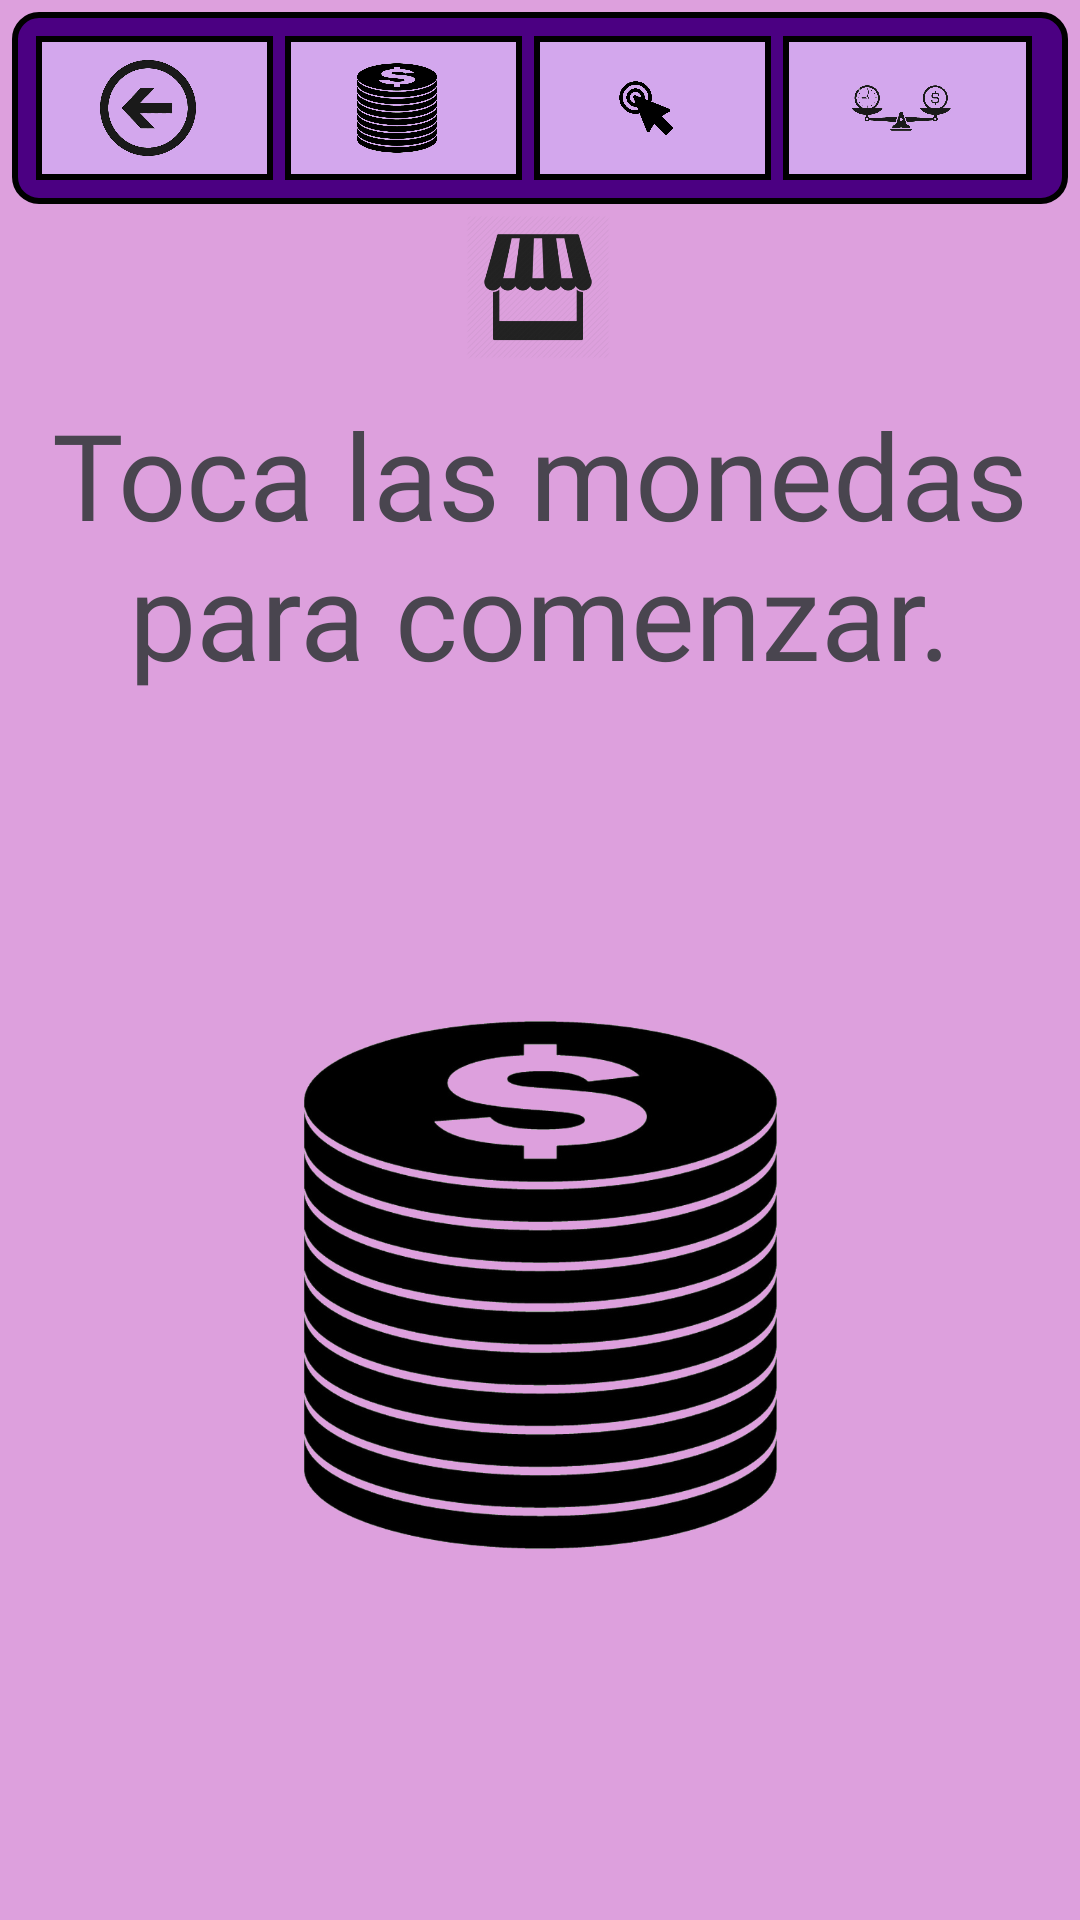

Where to tap for icons on this 1080*1920 app screen, as point (x, y):
atras: point (148, 108)
market: point (538, 287)
Monedas por segundo: point (901, 108)
